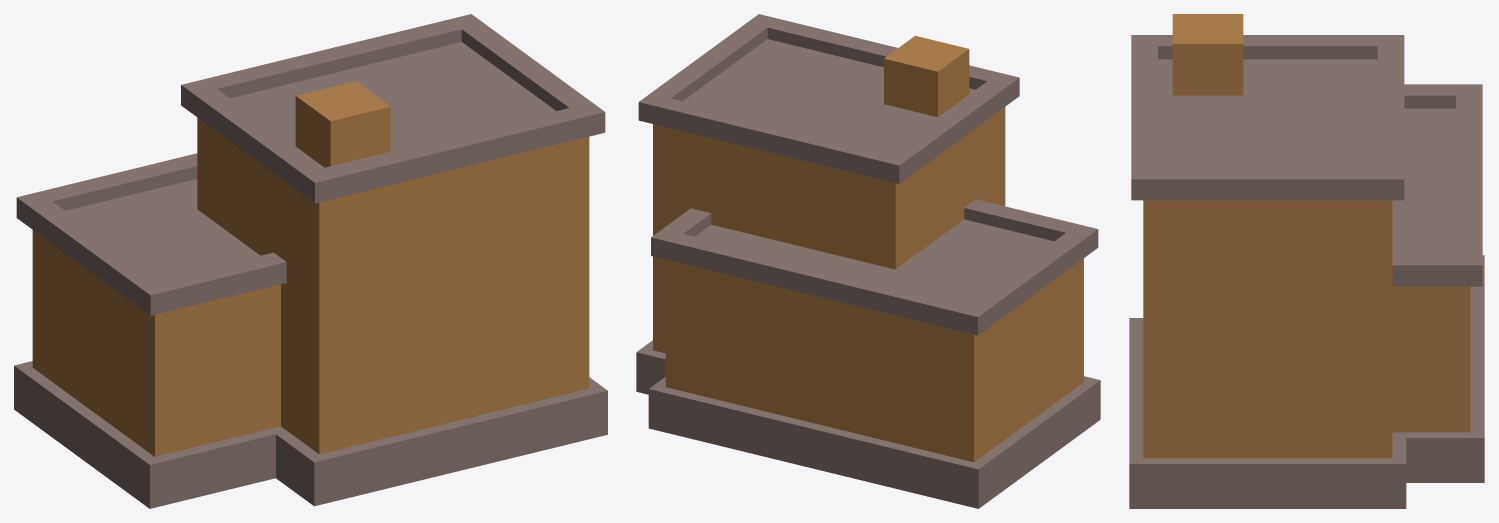
File: Map-House-S-Lv2-R.fbx
3 renders of one model, left to right at view 1: azimuth 30°, elevation 25°; view 2: azimuth 150°, elevation 25°; view 3: azimuth 270°, elevation 25°, orthographic. The views are drawn at different scales.
Visible parts, largest first — view 1: Map-House-S-Lv2-R; view 2: Map-House-S-Lv2-R; view 3: Map-House-S-Lv2-R.
Part boxes in pixels (bbox=[...]): Map-House-S-Lv2-R: bbox=[14, 14, 607, 508]; Map-House-S-Lv2-R: bbox=[636, 14, 1100, 508]; Map-House-S-Lv2-R: bbox=[1129, 14, 1484, 508].
Bounding box in the file's own units: 1.6 × 1.32 × 1.15.
